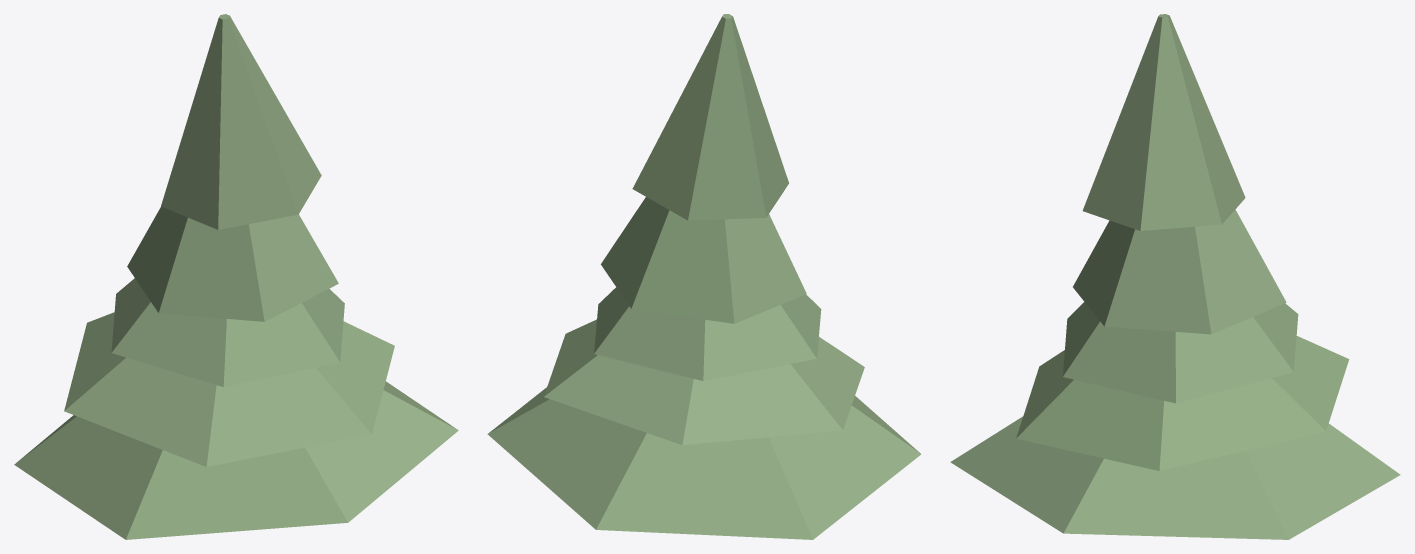
The model's file is Pine.obj.
3 renders of one model, left to right at view 1: azimuth 30°, elevation 25°; view 2: azimuth 150°, elevation 25°; view 3: azimuth 270°, elevation 25°, orthographic. The views are drawn at different scales.
Parts seen in each view (by area): view 1: PineTree_Cylinder; view 2: PineTree_Cylinder; view 3: PineTree_Cylinder.
Boxes of the visible parts, bbox=[...] form: PineTree_Cylinder: bbox=[14, 14, 458, 539]; PineTree_Cylinder: bbox=[487, 14, 921, 539]; PineTree_Cylinder: bbox=[950, 14, 1400, 539].
Bounding box in the file's own units: 5.18 × 6.78 × 6.
